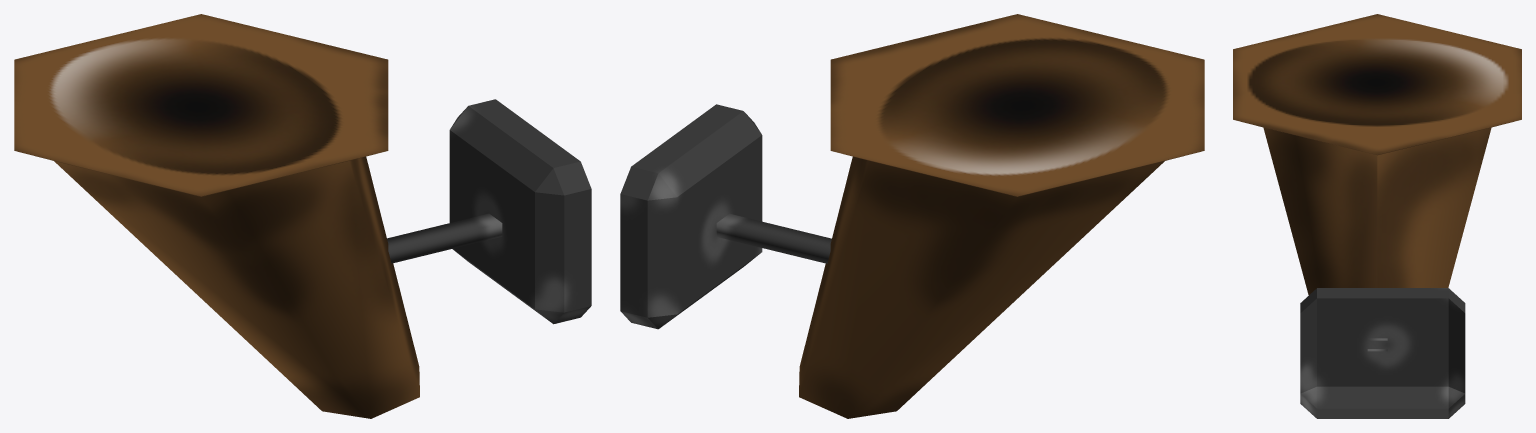
File: Antorcha.FBX
3 views of the same model, side by side, from view 1: azimuth 30°, elevation 25°; view 2: azimuth 150°, elevation 25°; view 3: azimuth 270°, elevation 25° (orthographic). The views are drawn at different scales.
Visible parts, largest first — view 1: Antorcha; view 2: Antorcha; view 3: Antorcha.
Boxes of the visible parts, x1,y1,x2,y2 form: Antorcha: (14, 14, 591, 418); Antorcha: (620, 14, 1204, 418); Antorcha: (1233, 14, 1521, 418).
Size of the model in its own units: 18.36 by 11.16 by 11.28.
